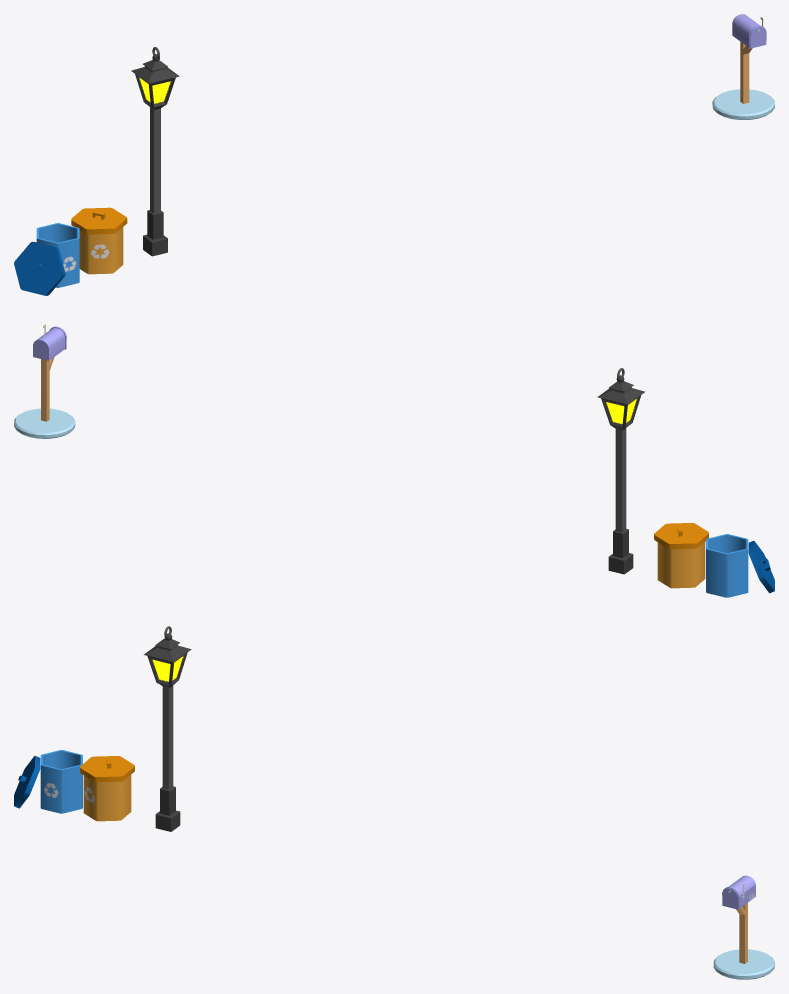
The model's file is thungrac...._idle.fbx.
The picture shows the model from 3 angles, top to bottom: view 1: azimuth 30°, elevation 25°; view 2: azimuth 150°, elevation 25°; view 3: azimuth 330°, elevation 25°; orthographic projection.
Parts seen in each view (by area): view 1: thung_rac, den, polySurface392, polySurface400; view 2: thung_rac, den, polySurface400, polySurface392; view 3: thung_rac, den, polySurface400, polySurface392.
Boxes of the visible parts, x1,y1,x2,y2 form: thung_rac: (14, 207, 127, 295); den: (131, 47, 179, 256); polySurface392: (732, 14, 766, 103); polySurface400: (712, 89, 774, 119); thung_rac: (654, 523, 774, 597); den: (597, 368, 645, 574); polySurface400: (14, 408, 75, 438); polySurface392: (33, 324, 66, 421); thung_rac: (14, 750, 134, 821); den: (143, 626, 191, 831); polySurface400: (713, 949, 774, 979); polySurface392: (722, 875, 755, 963).
Size of the model in its own units: 1170 by 300 by 110.
Materials: 3 (3 with a texture image).
